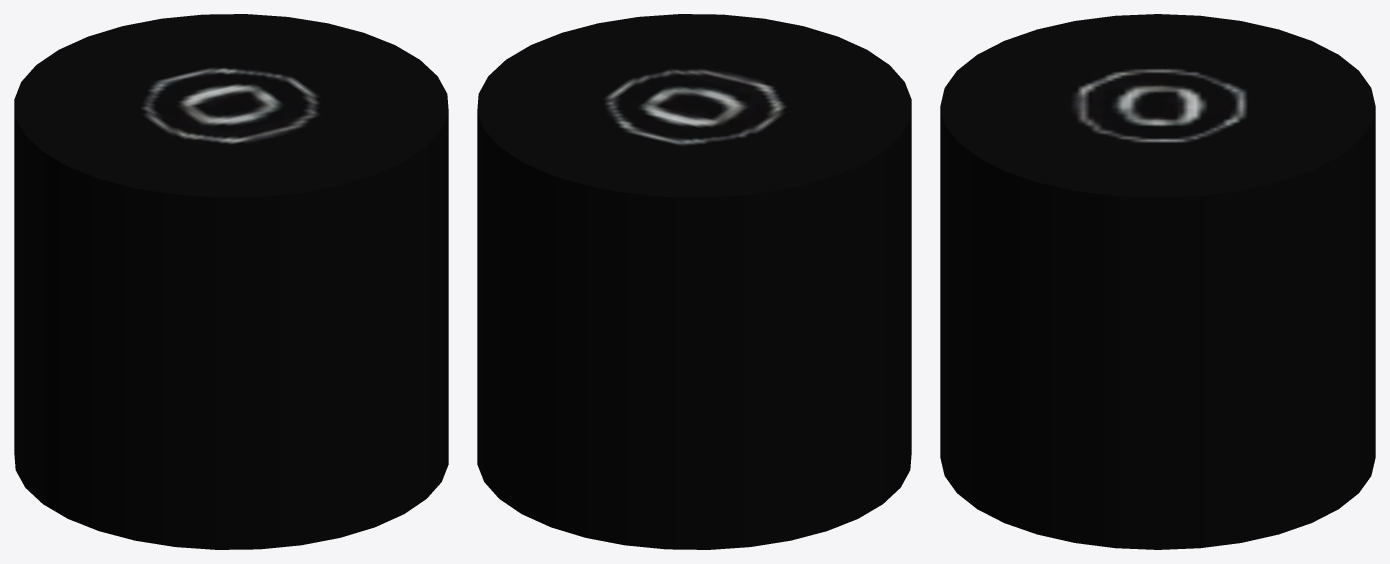
Rendered from front_rollers__roller_1.glb.
3 renders of one model, left to right at view 1: azimuth 30°, elevation 25°; view 2: azimuth 150°, elevation 25°; view 3: azimuth 270°, elevation 25°, orthographic.
Visible parts, largest first — view 1: geometry_0; view 2: geometry_0; view 3: geometry_0.
Boxes of the visible parts, x1,y1,x2,y2 form: geometry_0: (14, 14, 448, 549); geometry_0: (477, 14, 911, 549); geometry_0: (940, 14, 1375, 549).
Size of the model in its own units: 0.084 by 0.075 by 0.084.
Materials: 1 (1 with a texture image).
